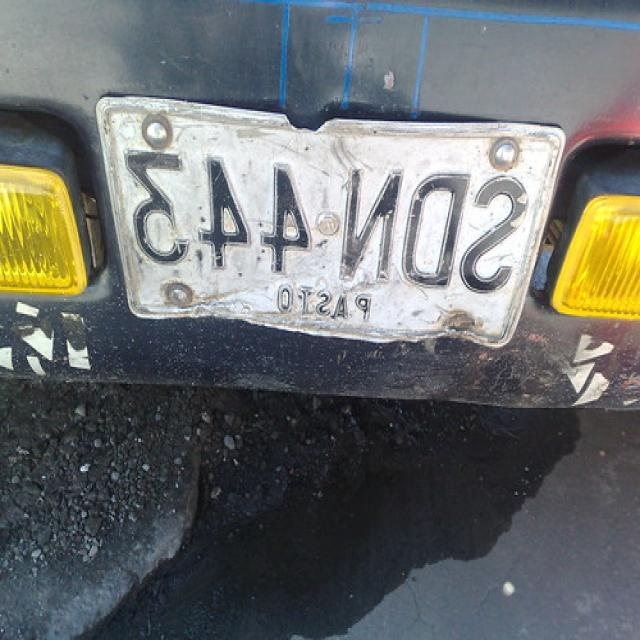placas: (110, 135, 532, 297)
